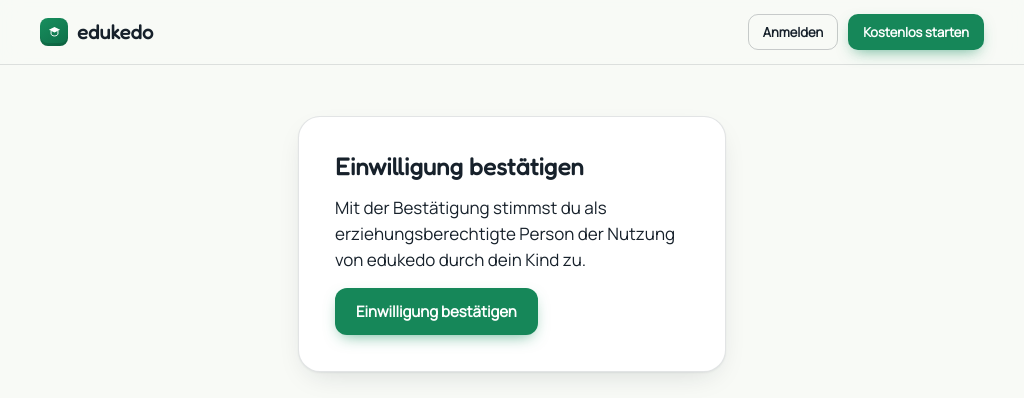
Test: ConsentConfirm, Zielseite des Bestätigungslinks (F-08, Review WEB-11) › bestätigt die Einwilligung erst nach einem Klick, nicht schon beim Öffnen des Links
Click the button "Einwilligung bestätigen" at (436, 311), box [335,288,538,335]
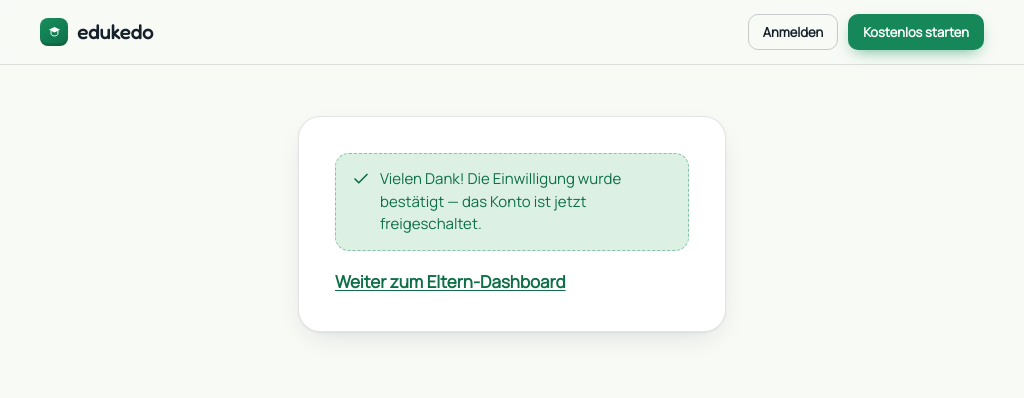
Check: the text "das Konto ist jetzt freigeschaltet" is shown, box [380,168,621,234]
